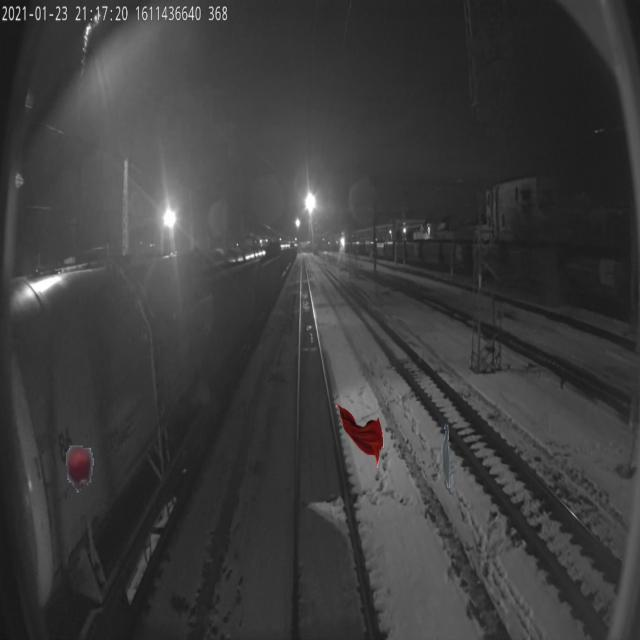balloon: (59, 440, 98, 504)
floating object: (335, 403, 384, 468), (442, 423, 456, 488)
